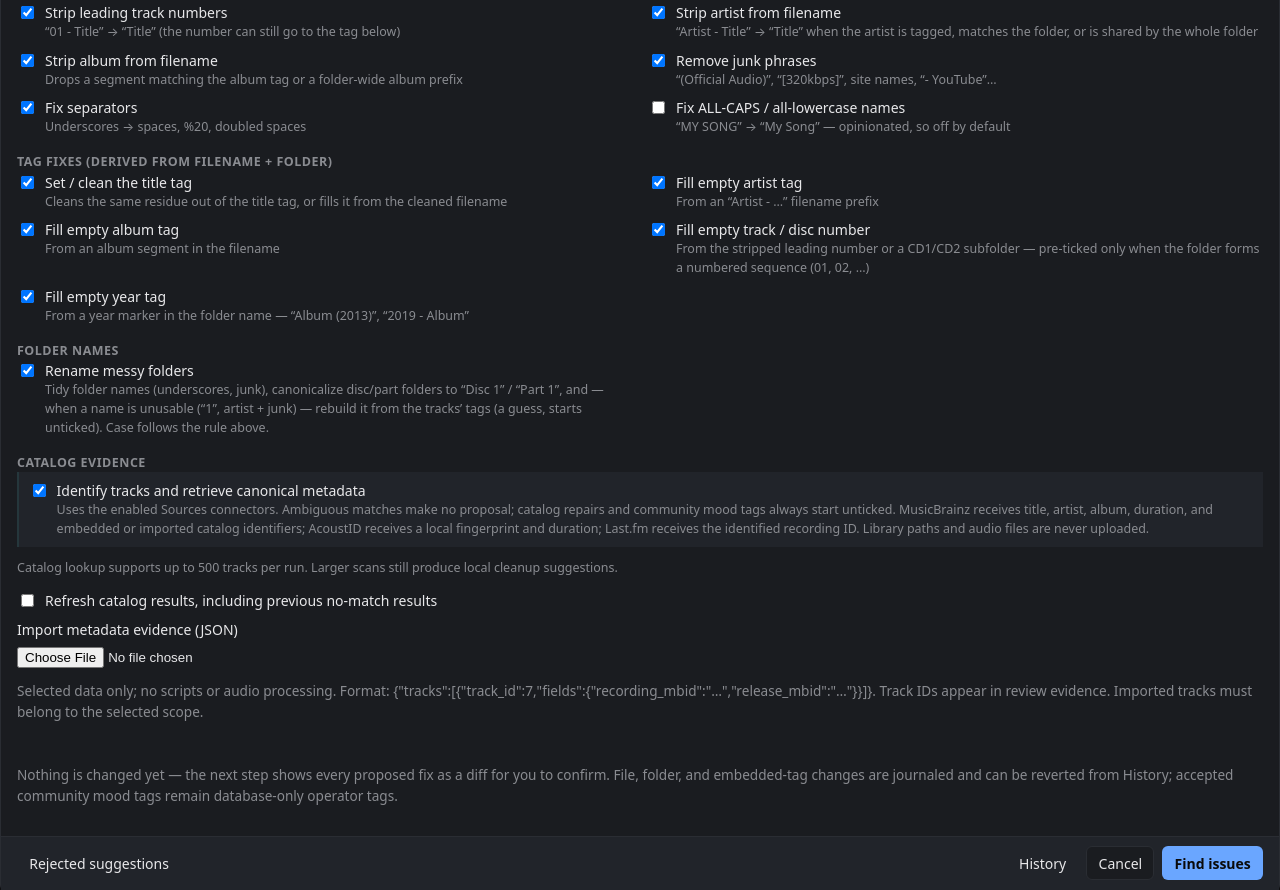
Scenario: CleanupWorkflow catalog enrichment › provides selectable complete JSON when browser clipboard access fails
The width and height of the screenshot is (1280, 890).
(page scrolled)
Step 1. Click the button "Find issues" → (1213, 863), box [1162,846,1263,880]
(page scrolled)
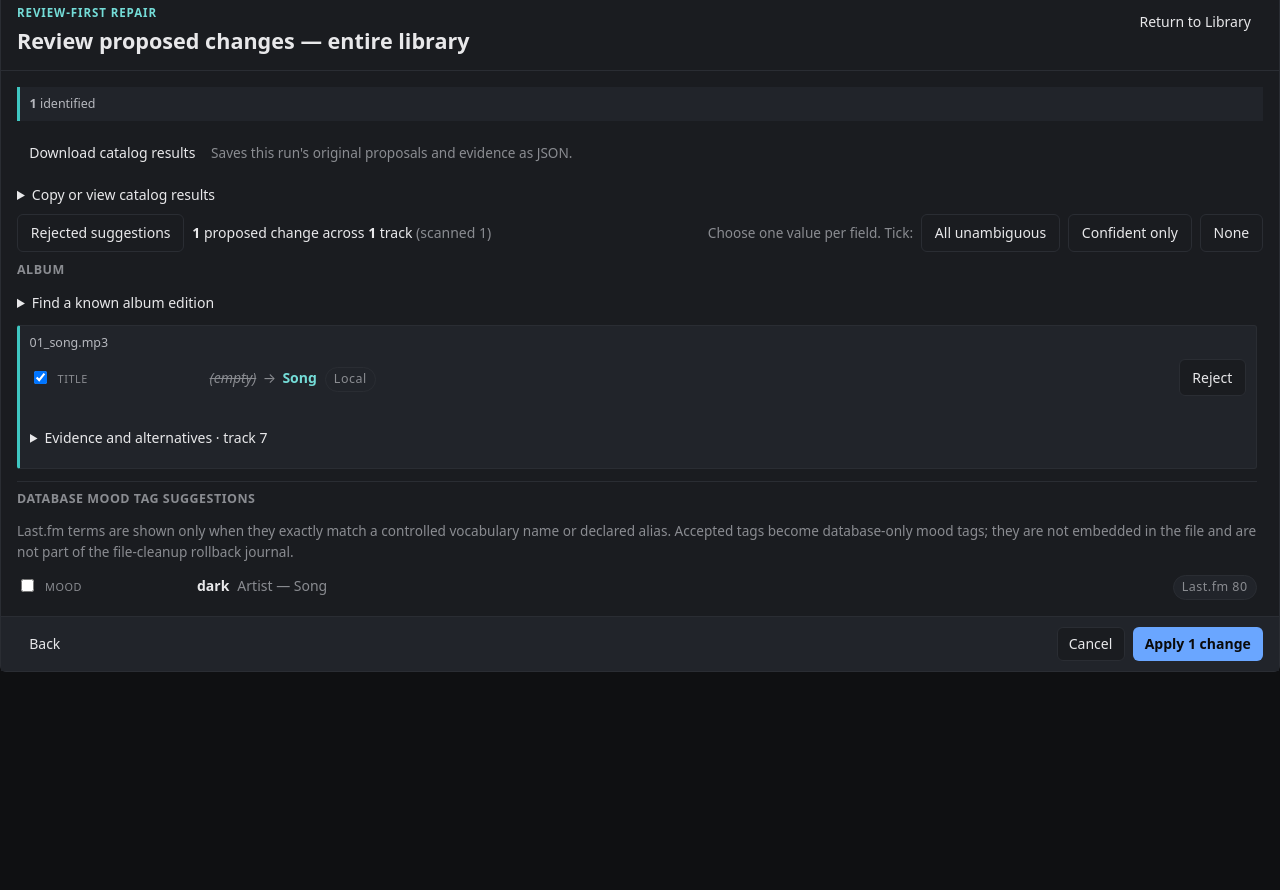
Result: the text "01_song.mp3" is shown at [30,334,108,351]
Step 2. Click the heading "Copy or view catalog results" → (123, 194), box [32,185,215,204]
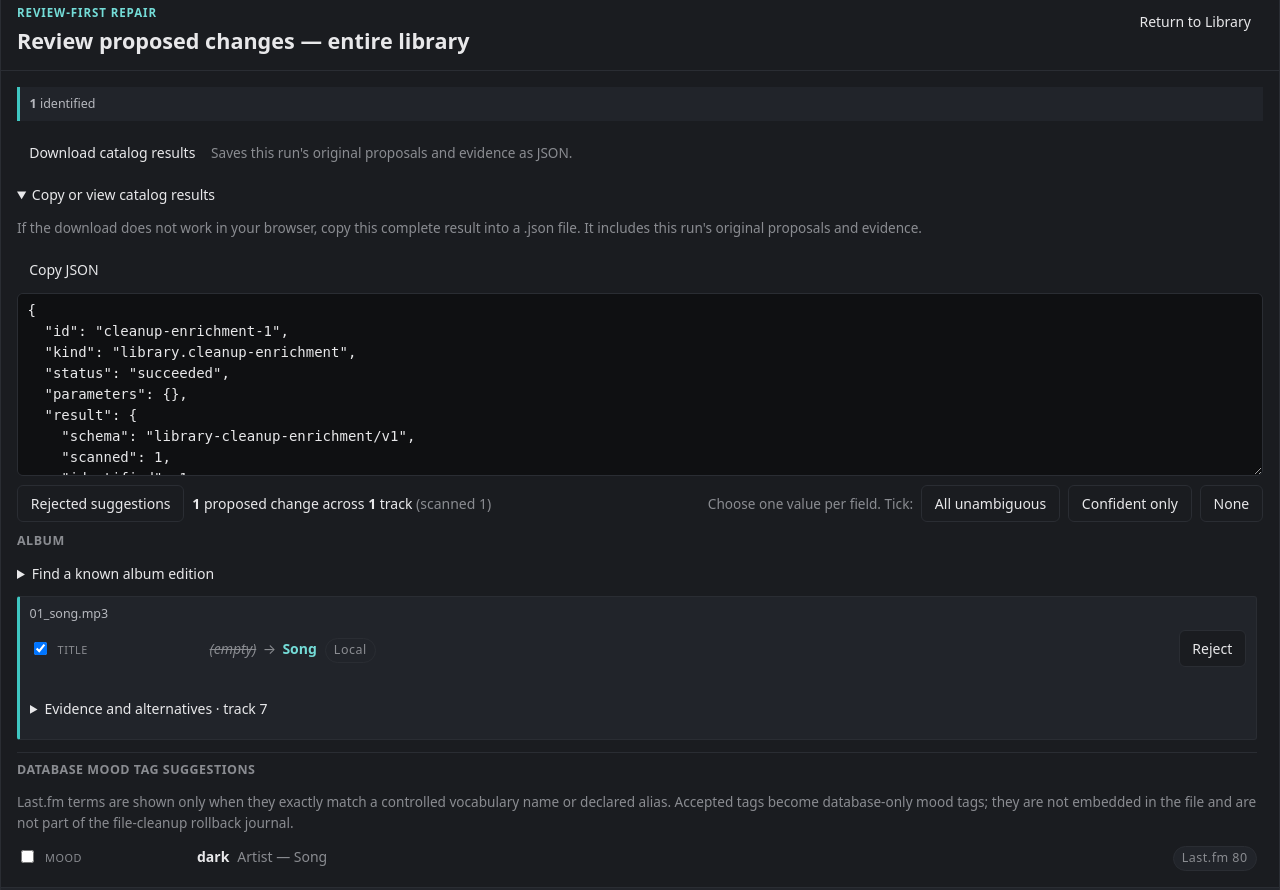
Step 3. Click the button "Copy JSON" → (64, 269), box [17,252,111,286]
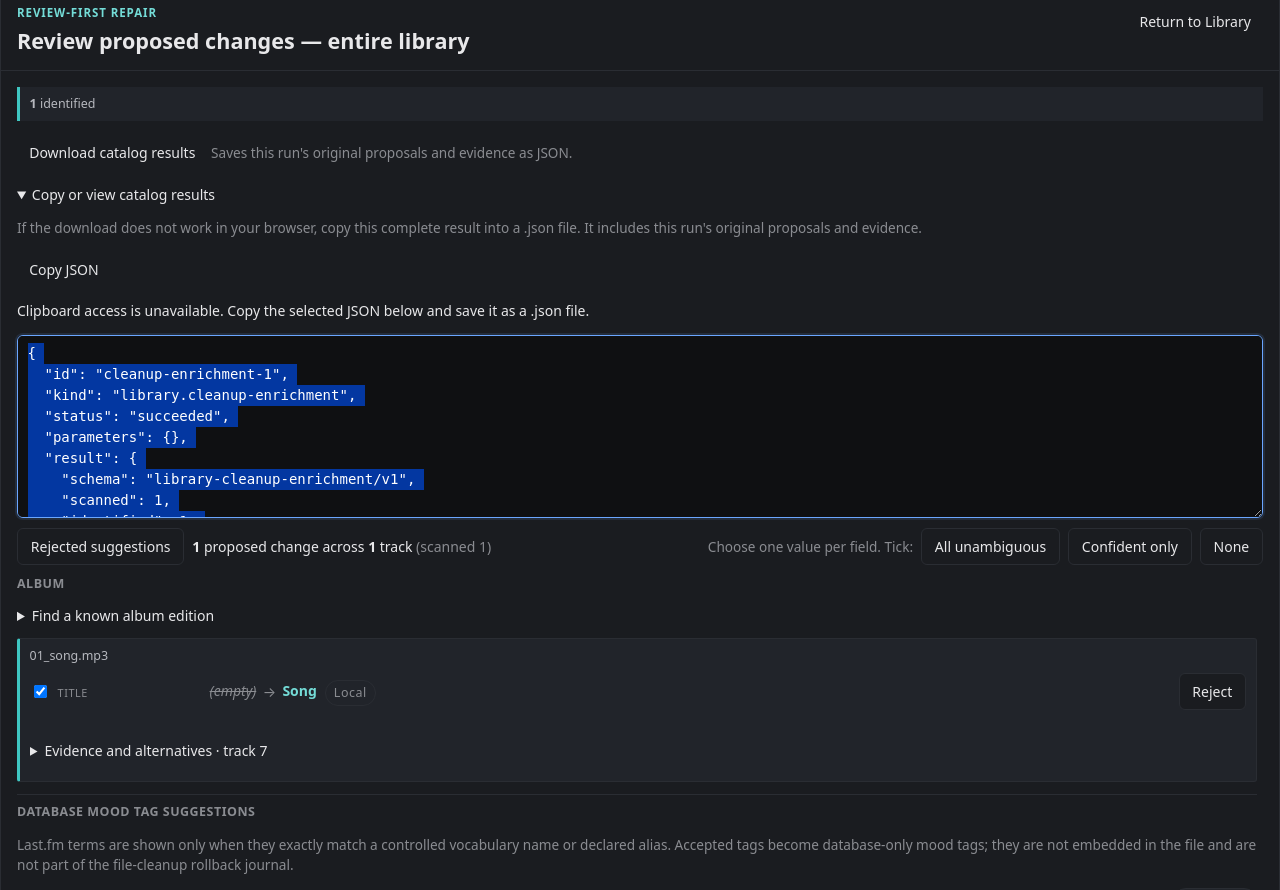
Result: the text "Clipboard access is unavailable" is shown at [17,301,589,320]
